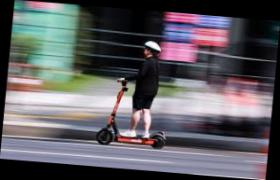helmet: (96, 36, 176, 151)
